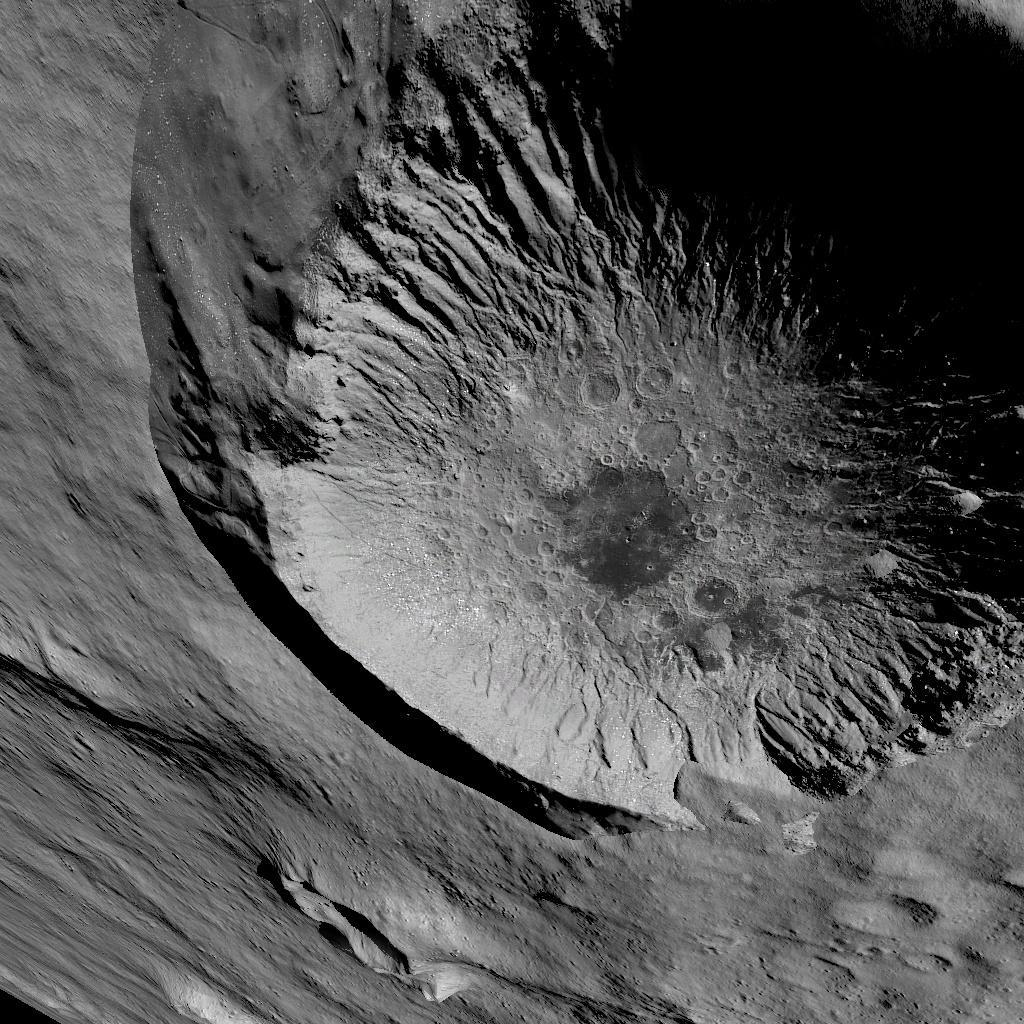Crater: (112, 2, 1023, 848), (236, 861, 430, 1011)
Plan surface: (480, 883, 1024, 1024)
